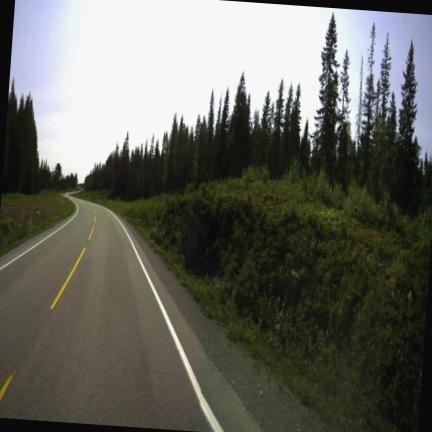Road: (0, 200, 260, 431)
